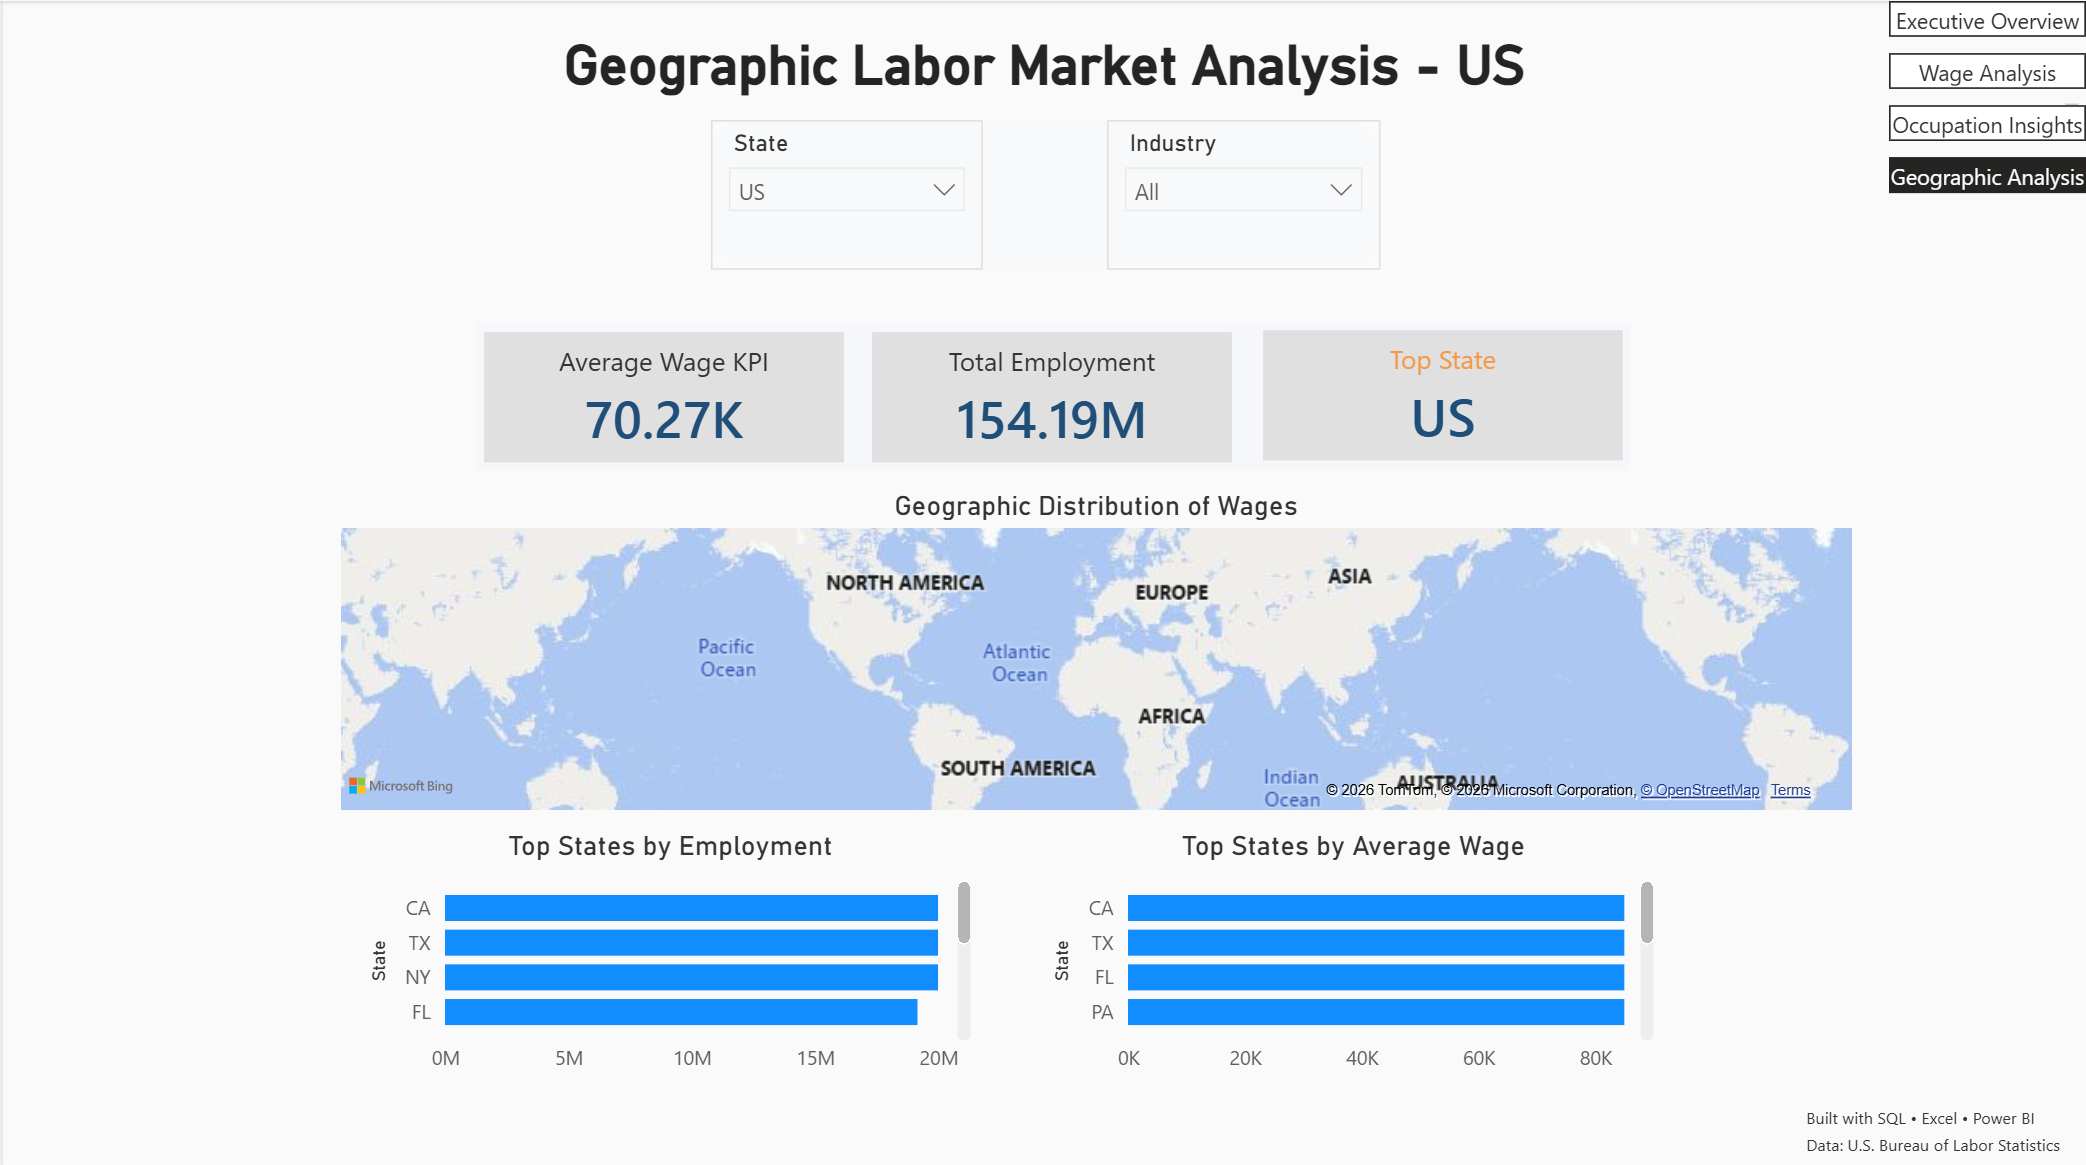

The page's visual inventory and layout, read from the dashboard file:
{"tool":"powerbi","page":{"name":"Geographic Analysis","canvas":[1280,720],"ordinal":3},"visuals":[{"type":"shape","box":[434.7,71.9,410.7,92.6],"z":0},{"type":"slicer","fields":{"Values":["cleaned_data.Industry"]},"box":[678.1,73.2,167.5,92.3],"z":0,"group":"g2"},{"type":"cardVisual","title":"Average Salary","fields":{"Data":["cleaned_data.Average Wage KPI"]},"box":[290.6,198.5,231.2,91],"z":0,"group":"g1"},{"type":"textbox","box":[0,0,1279.8,82.9],"z":1000},{"type":"slicer","fields":{"Values":["cleaned_data.State"]},"box":[434.7,73.2,166.9,91.6],"z":1000,"group":"g2"},{"type":"cardVisual","title":"Median Salary","fields":{"Data":["cleaned_data.KPI Employment"]},"box":[529,198.5,231.2,91],"z":1000,"group":"g1"},{"type":"shape","box":[290.6,197,709.4,91],"z":2000},{"type":"cardVisual","fields":{"Data":["cleaned_data.Top State"]},"box":[769.3,197,231,91],"z":3000,"group":"g1"},{"type":"map","title":"Geographic Distribution of Wages","fields":{"Category":["cleaned_data.State"],"Size":["cleaned_data.Total Employment"],"Series":["cleaned_data.Country"]},"box":[202.9,299.7,937.8,202.2],"z":3000},{"type":"clusteredBarChart","title":"Top States by Employment","fields":{"Category":["cleaned_data.State"],"Y":["cleaned_data.WA Employment"]},"box":[220.5,508.5,378.9,159],"z":4000},{"type":"textbox","box":[1102.7,667.8,177.5,52.2],"z":5000},{"type":"pageNavigator","box":[1158.4,0,121.6,119.2],"z":6000},{"type":"group","id":"g1","title":"Group 1","box":[290.6,197,709.4,92.3],"z":7000},{"type":"clusteredBarChart","title":"Top States by Average Wage","fields":{"Category":["cleaned_data.State"],"Y":["cleaned_data.GEO wage"]},"box":[640,508.5,378.9,159],"z":8000},{"type":"group","id":"g2","title":"Group 2","box":[434.7,73.2,410.7,92.6],"z":9000}]}

Visuals, with their boxes in screenshot pixels (x1, y1, x2, y2), scaled from the page's 1280x720 canvas onto the 2086x1165 screenshot:
shape: x1=708, y1=116, x2=1378, y2=266
slicer - cleaned_data.Industry: x1=1105, y1=118, x2=1378, y2=268
"Average Salary" cardVisual: x1=474, y1=321, x2=850, y2=468
textbox: x1=0, y1=0, x2=2085, y2=134
slicer - cleaned_data.State: x1=708, y1=118, x2=980, y2=267
"Median Salary" cardVisual: x1=862, y1=321, x2=1239, y2=468
shape: x1=474, y1=319, x2=1630, y2=466
cardVisual - cleaned_data.Top State: x1=1254, y1=319, x2=1630, y2=466
"Geographic Distribution of Wages" map: x1=331, y1=485, x2=1859, y2=812
"Top States by Employment" clusteredBarChart: x1=359, y1=823, x2=977, y2=1080
textbox: x1=1797, y1=1081, x2=2085, y2=1164
pageNavigator: x1=1888, y1=0, x2=2085, y2=193
"Group 1" group: x1=474, y1=319, x2=1630, y2=468
"Top States by Average Wage" clusteredBarChart: x1=1043, y1=823, x2=1660, y2=1080
"Group 2" group: x1=708, y1=118, x2=1378, y2=268
